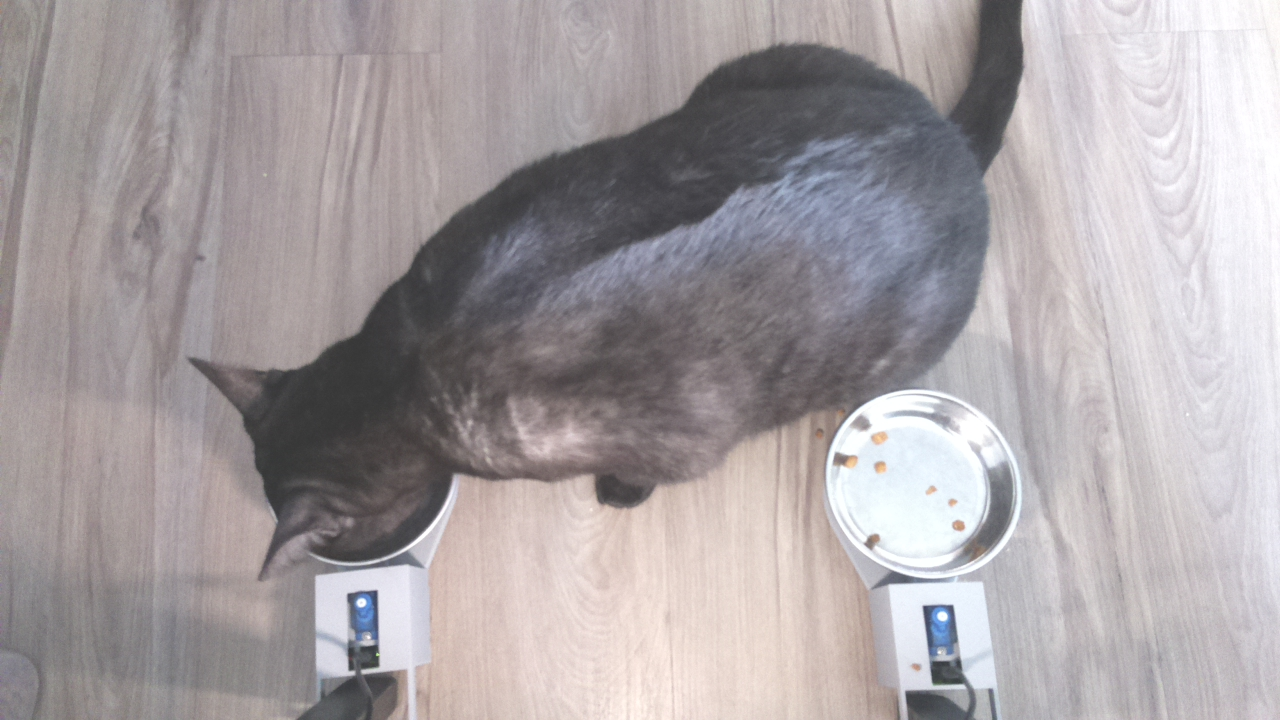open_bowl: (822, 385, 1026, 584)
saki_eating: (179, 306, 462, 589)
